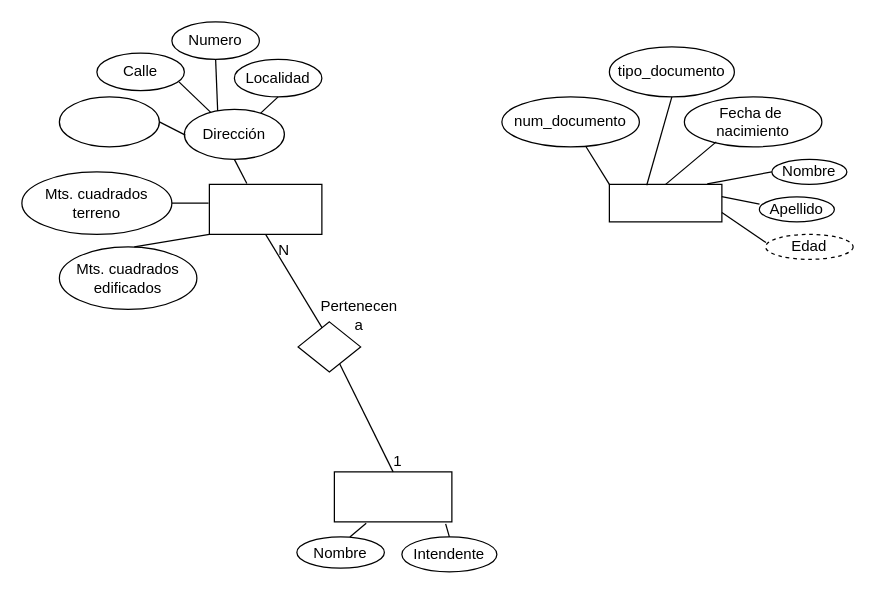
Some shapes in this 875 by 594 pixel diagram are drawn without their labels. Each missing label, with the centre of its shape:
Código Postal: point 108,121
Habitante: point 665,202
Municipio: point 392,496
Vivienda: point 265,208
